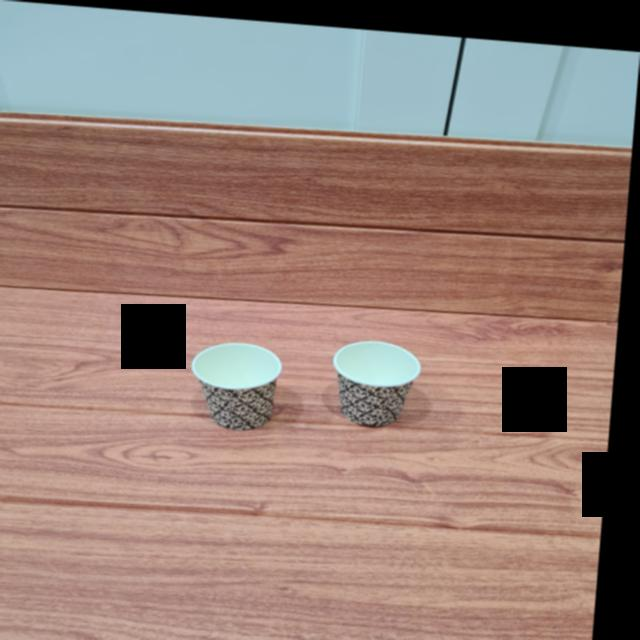cups: (192, 334, 296, 426), (331, 335, 432, 424)
